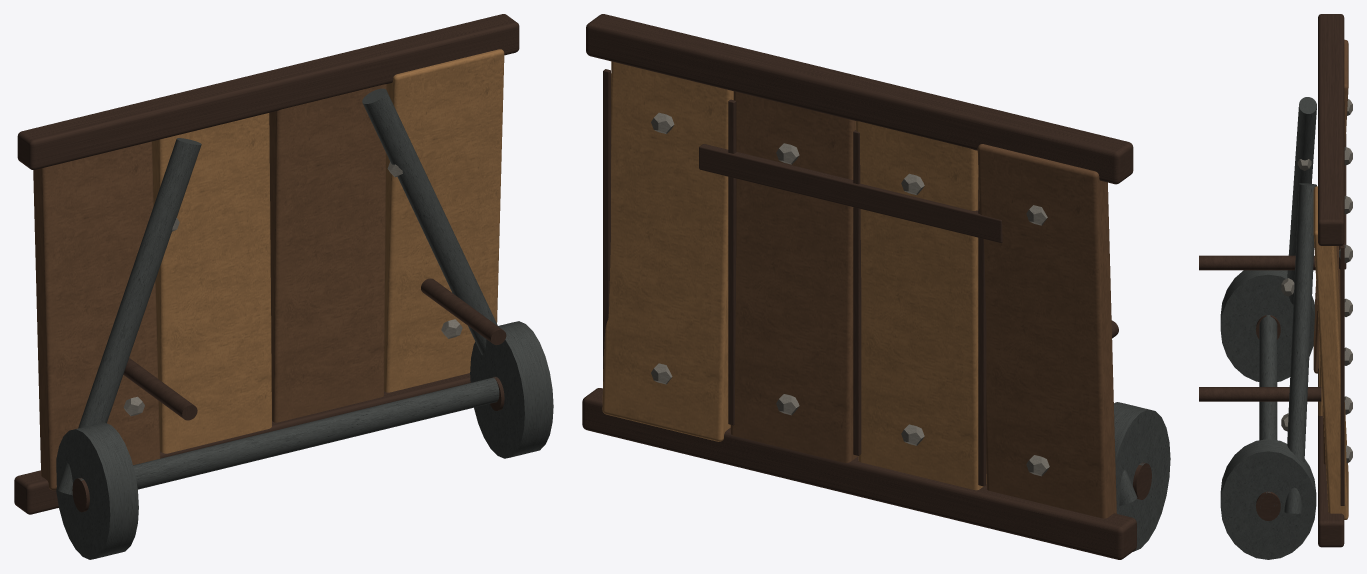
Rendered from mantlet.glb.
The picture shows the model from 3 angles, left to right: view 1: azimuth 30°, elevation 25°; view 2: azimuth 150°, elevation 25°; view 3: azimuth 270°, elevation 25°; orthographic projection. The views are drawn at different scales.
Parts seen in each view (by area): view 1: mantlet; view 2: mantlet; view 3: mantlet.
Boxes of the visible parts, x1=… form: mantlet: x1=14, y1=14, x2=553, y2=559; mantlet: x1=582, y1=14, x2=1170, y2=559; mantlet: x1=1199, y1=14, x2=1352, y2=559.
Size of the model in its own units: 2.6 by 2 by 0.8.
Materials: 1 (1 with a texture image).
